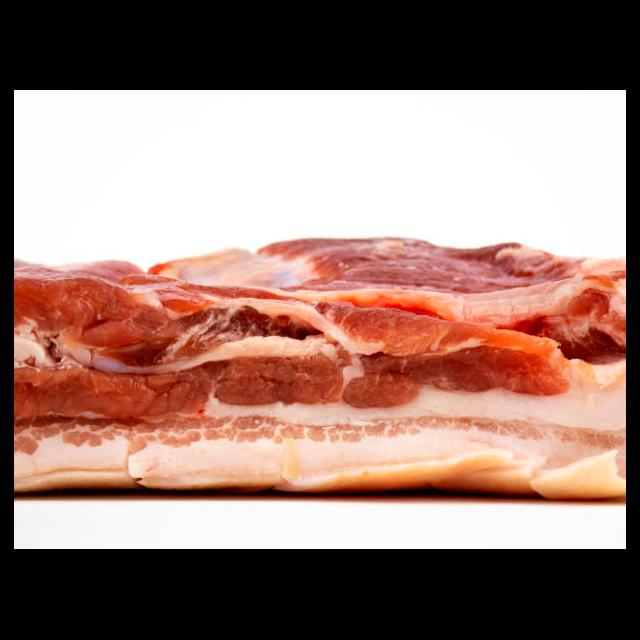pork: (14, 229, 626, 516)
